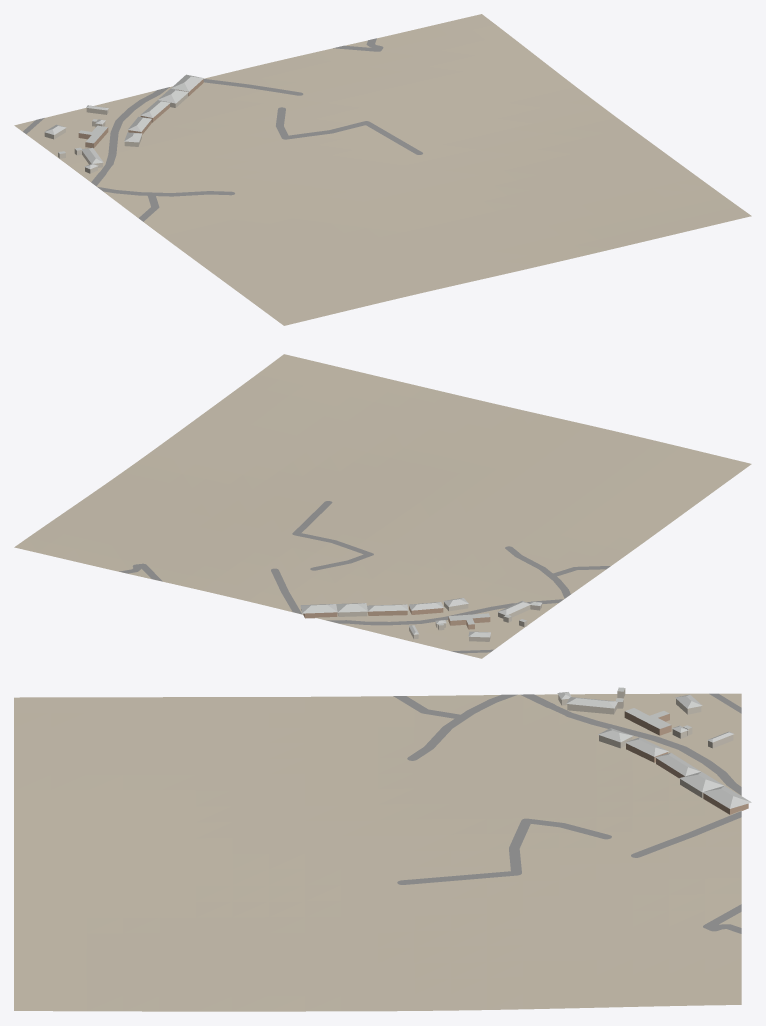
Rendered from bolak_1_10.glb.
3 renders of one model, top to bottom at view 1: azimuth 30°, elevation 25°; view 2: azimuth 150°, elevation 25°; view 3: azimuth 270°, elevation 25°, orthographic. The views are drawn at different scales.
Visible parts, largest first — view 1: Yer_Tuproq-col, Yol_Mahalla-col, Tom_Shifer, Devor_Suvoq-col; view 2: Yer_Tuproq-col, Yol_Mahalla-col, Tom_Shifer, Devor_Gisht-col, Devor_Suvoq-col; view 3: Yer_Tuproq-col, Yol_Mahalla-col, Tom_Shifer, Devor_Suvoq-col, Devor_Gisht-col.
Part boxes in pixels (x1,y1,x2,y2): Yer_Tuproq-col: [14, 14, 751, 325]; Yol_Mahalla-col: [23, 38, 422, 221]; Tom_Shifer: [44, 74, 203, 169]; Devor_Suvoq-col: [44, 93, 188, 173]; Yer_Tuproq-col: [14, 354, 751, 658]; Yol_Mahalla-col: [119, 501, 610, 653]; Tom_Shifer: [300, 597, 541, 637]; Devor_Gisht-col: [301, 606, 490, 629]; Devor_Suvoq-col: [337, 602, 541, 641]; Yer_Tuproq-col: [14, 693, 741, 1011]; Yol_Mahalla-col: [393, 693, 741, 933]; Tom_Shifer: [557, 687, 751, 808]; Devor_Suvoq-col: [558, 688, 733, 798]; Devor_Gisht-col: [624, 711, 748, 814].
Size of what is drawn, in the model's own units: 400 by 13.39 by 406.
